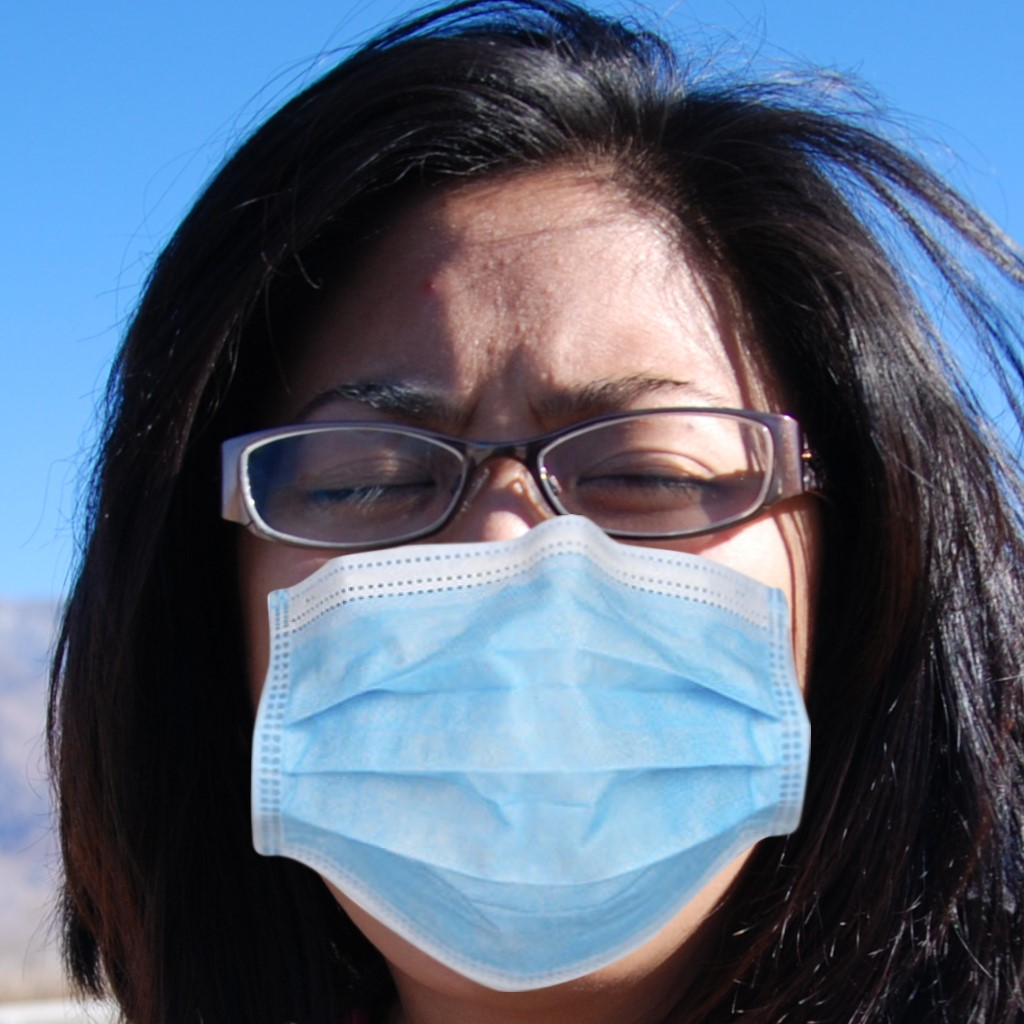con_mascara: (180, 162, 824, 987)
